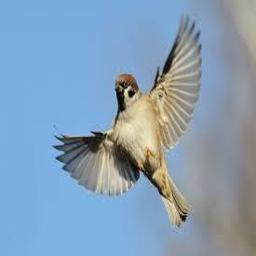Sparrow: (53, 13, 202, 230)
